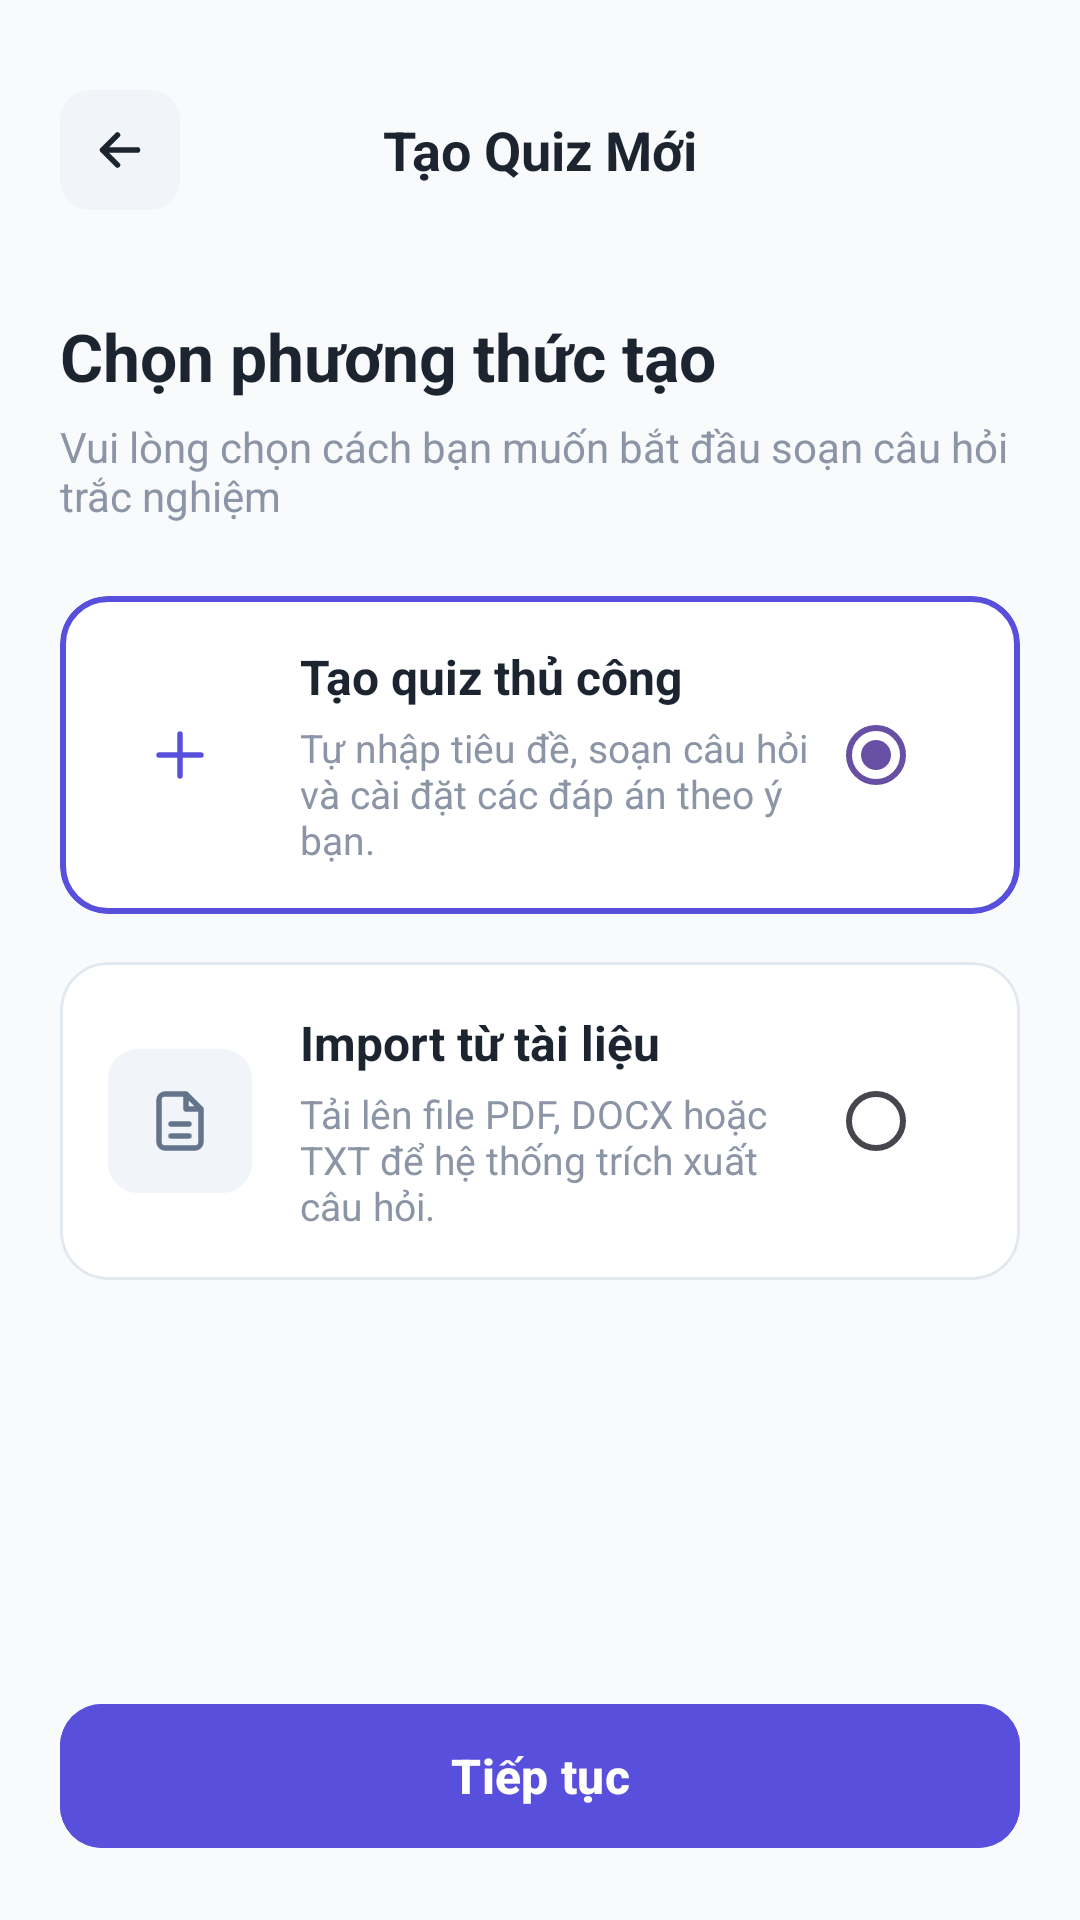

Icons on this 1080 × 1920 Android screen, each with the point to tap as (x,y):
add: (180,755)
doc: (180,1121)
Quay lại: (120,150)
